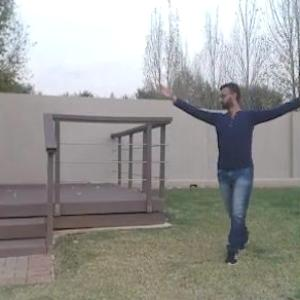takeoff: (156, 80, 299, 263)
